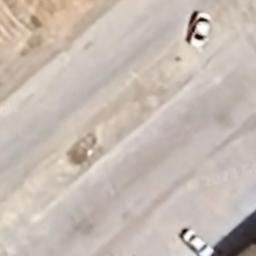sedan: (184, 9, 212, 50), (180, 225, 216, 256)
